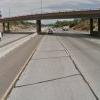Bridge: (3, 6, 97, 34)
